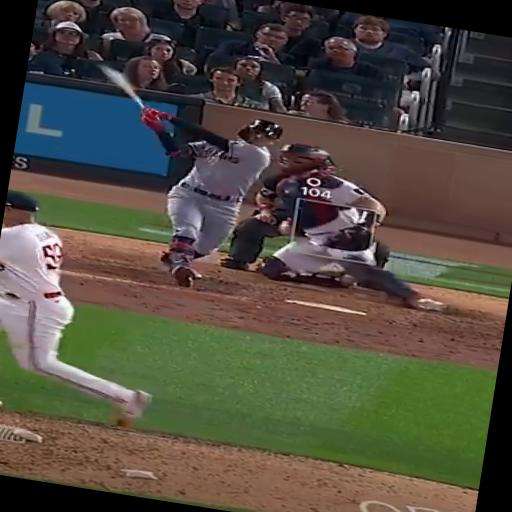bat: (98, 65, 145, 108)
